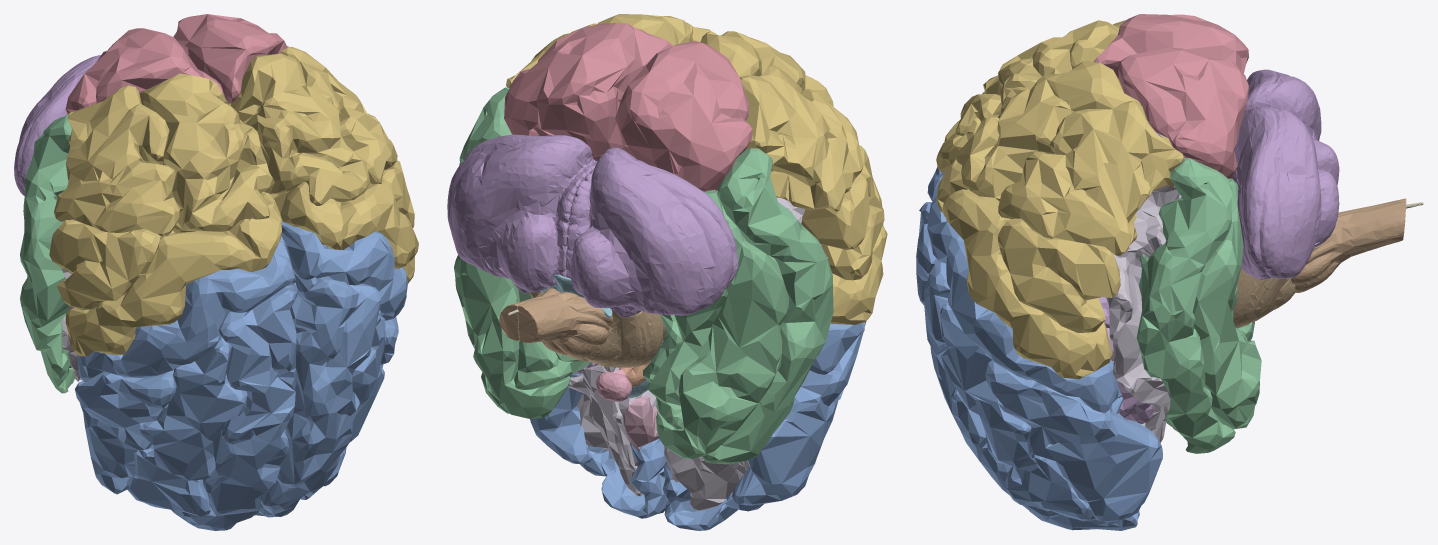
Rendered from brain_low.glb.
3 views of the same model, side by side, from view 1: azimuth 30°, elevation 25°; view 2: azimuth 150°, elevation 25°; view 3: azimuth 270°, elevation 25° (orthographic). The views are drawn at different scales.
Parts seen in each view (by area): view 1: parietal_lobe, frontal_lobe, occipital_lobe, temporal_lobe, cerebellum, inner_cerebrum; view 2: temporal_lobe, cerebellum, occipital_lobe, parietal_lobe, frontal_lobe, inner_cerebrum, medulla, pons, limbic, pituitary, ventricles; view 3: parietal_lobe, frontal_lobe, temporal_lobe, cerebellum, occipital_lobe, inner_cerebrum, medulla, pons, insula.
Boxes of the visible parts, bbox=[...] form: parietal_lobe: bbox=[49, 46, 418, 356]; frontal_lobe: bbox=[75, 220, 407, 530]; occipital_lobe: bbox=[65, 14, 288, 114]; temporal_lobe: bbox=[20, 114, 74, 393]; cerebellum: bbox=[14, 55, 100, 195]; inner_cerebrum: bbox=[61, 268, 82, 381]; temporal_lobe: bbox=[454, 87, 833, 464]; cerebellum: bbox=[447, 134, 738, 317]; occipital_lobe: bbox=[504, 23, 752, 191]; parietal_lobe: bbox=[506, 14, 887, 324]; frontal_lobe: bbox=[530, 321, 866, 530]; inner_cerebrum: bbox=[568, 197, 827, 510]; medulla: bbox=[499, 288, 612, 358]; pons: bbox=[530, 291, 663, 367]; limbic: bbox=[625, 395, 658, 449]; pituitary: bbox=[596, 367, 631, 401]; ventricles: bbox=[538, 274, 663, 398]; parietal_lobe: bbox=[936, 20, 1183, 379]; frontal_lobe: bbox=[916, 166, 1162, 530]; temporal_lobe: bbox=[1136, 158, 1261, 453]; cerebellum: bbox=[1231, 69, 1339, 279]; occipital_lobe: bbox=[1094, 14, 1248, 178]; inner_cerebrum: bbox=[1106, 132, 1184, 442]; medulla: bbox=[1291, 198, 1406, 292]; pons: bbox=[1233, 268, 1295, 328]; insula: bbox=[1098, 297, 1154, 423].
Size of the model in its own units: 139 by 180 by 172.
